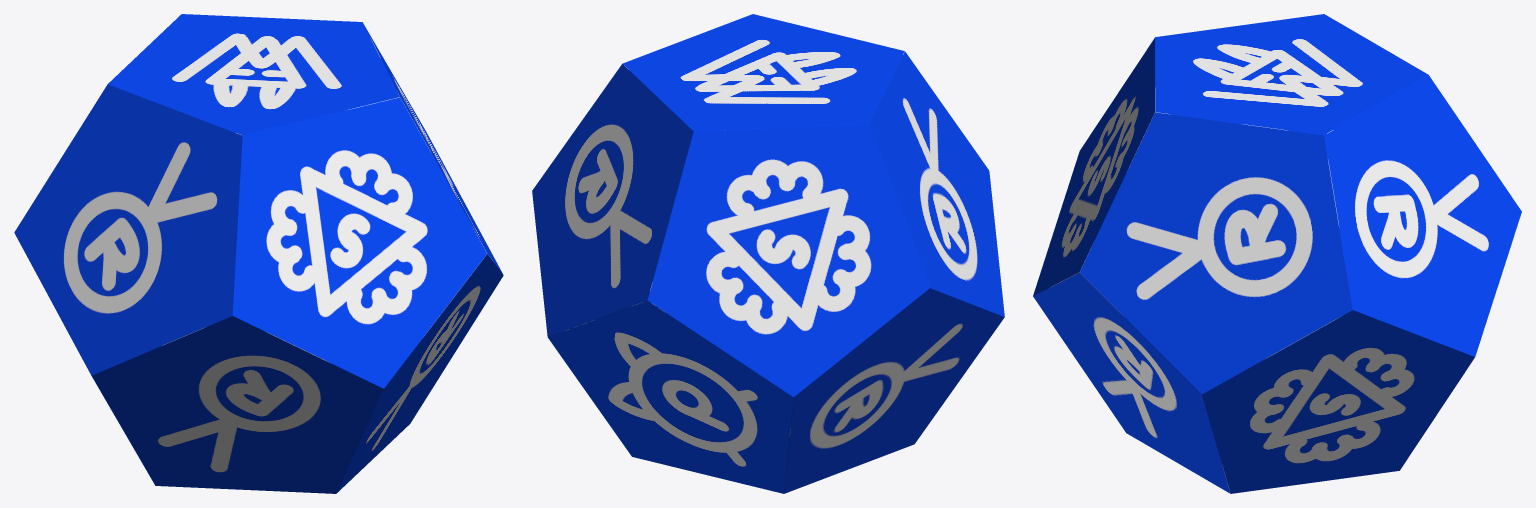
File: blueCube.fbx
The picture shows the model from 3 angles, left to right: view 1: azimuth 30°, elevation 25°; view 2: azimuth 150°, elevation 25°; view 3: azimuth 270°, elevation 25°; orthographic projection. The views are drawn at different scales.
Visible parts, largest first — view 1: Icosphere; view 2: Icosphere; view 3: Icosphere.
Part boxes in pixels (<box>): Icosphere: <box>14,14,503,493</box>; Icosphere: <box>532,14,1004,493</box>; Icosphere: <box>1033,14,1521,493</box>.
Bounding box in the file's own units: 156 × 126 × 149.
